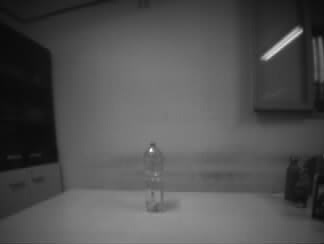Bottle: (142, 141, 167, 213)
